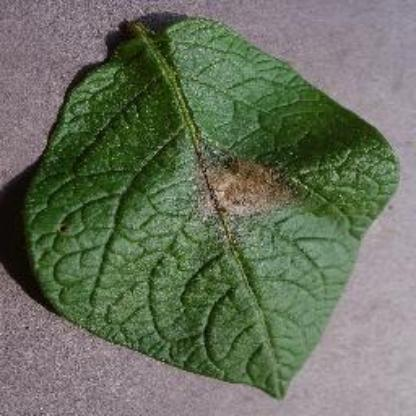Late-Blight: (24, 13, 398, 402)
